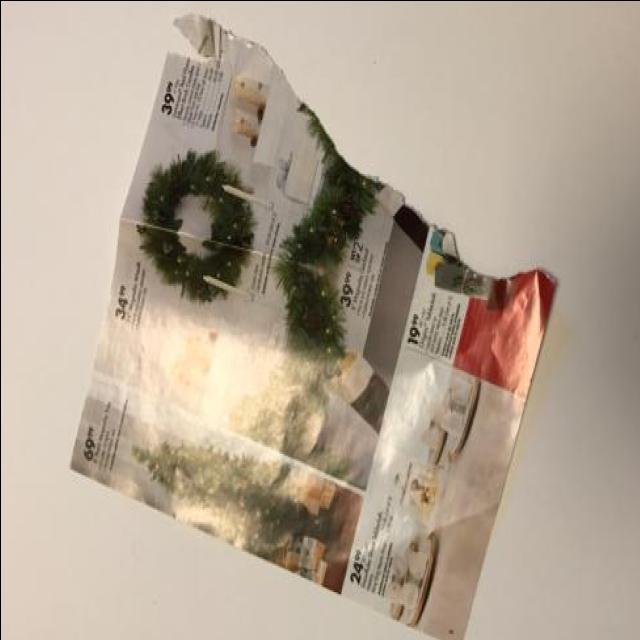kertas: (67, 14, 560, 640)
